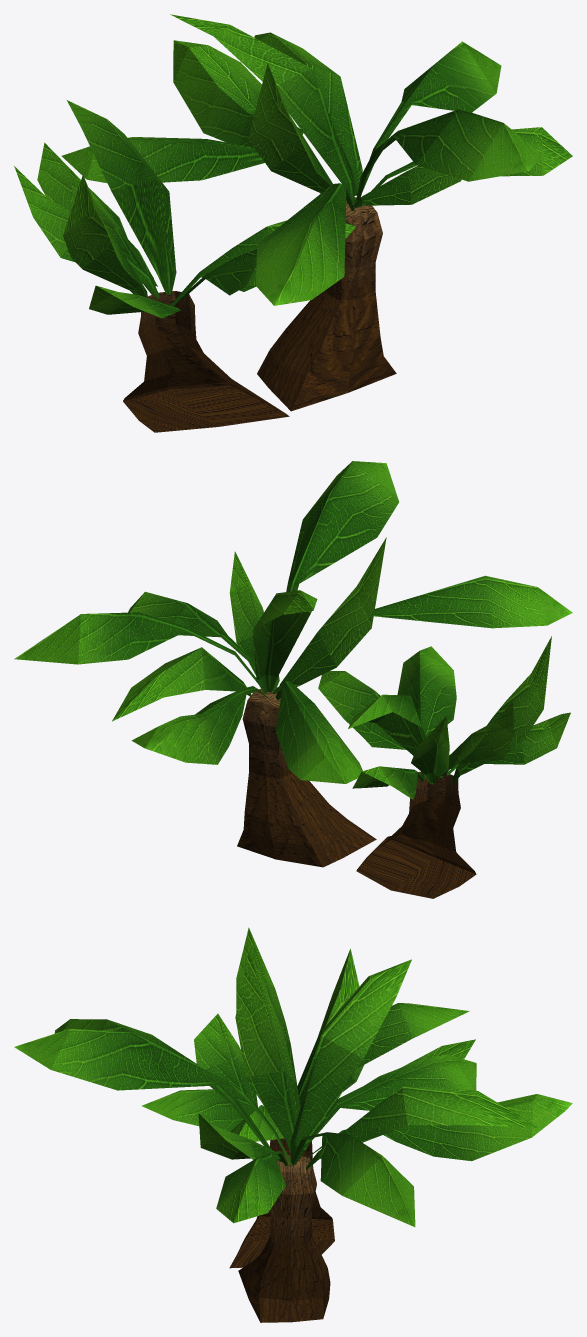
File: bush tree_H.fbx
3 views of the same model, one above another, from view 1: azimuth 30°, elevation 25°; view 2: azimuth 150°, elevation 25°; view 3: azimuth 270°, elevation 25° (orthographic). The views are drawn at different scales.
Visible parts, largest first — view 1: Cube.010; view 2: Cube.010; view 3: Cube.010.
Boxes of the visible parts, x1=… form: Cube.010: x1=14, y1=14, x2=572, y2=432; Cube.010: x1=14, y1=461, x2=572, y2=898; Cube.010: x1=14, y1=927, x2=572, y2=1322.
Size of the model in its own units: 340 by 217 by 348.
1 material, 1 textured.
